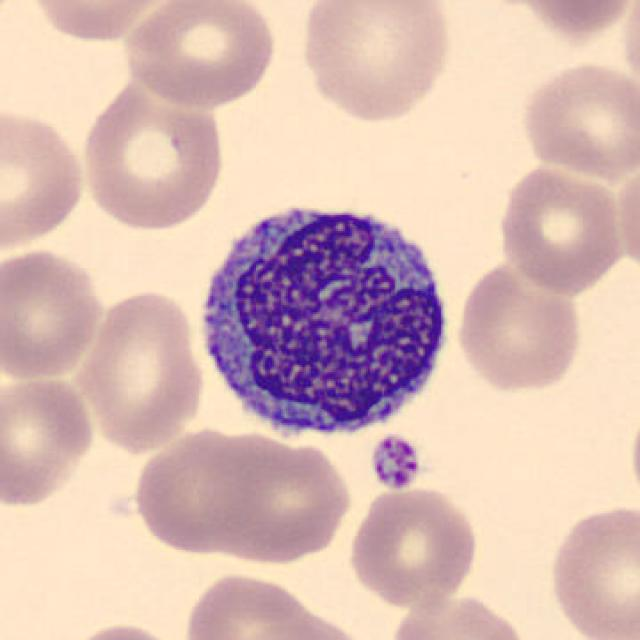Monocyte: (187, 187, 460, 451)
Platelets: (366, 432, 423, 494)
RBC: (76, 74, 228, 235), (73, 285, 208, 455), (195, 430, 354, 566), (295, 0, 455, 125), (128, 425, 272, 559), (452, 257, 586, 397), (494, 160, 628, 296), (119, 0, 281, 111), (345, 483, 482, 608), (518, 56, 638, 184), (0, 245, 107, 383), (0, 100, 89, 256), (544, 499, 640, 640), (0, 372, 98, 510), (181, 569, 315, 640), (384, 589, 533, 640), (22, 0, 182, 46), (505, 0, 638, 39), (229, 617, 370, 640), (614, 158, 638, 278), (59, 619, 190, 640), (620, 0, 639, 102), (626, 392, 640, 520)
